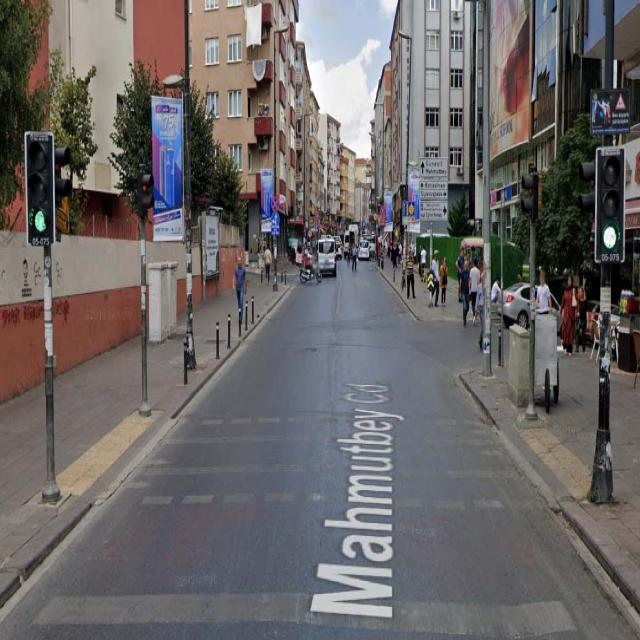yesil: (24, 131, 55, 243), (596, 147, 624, 262)
